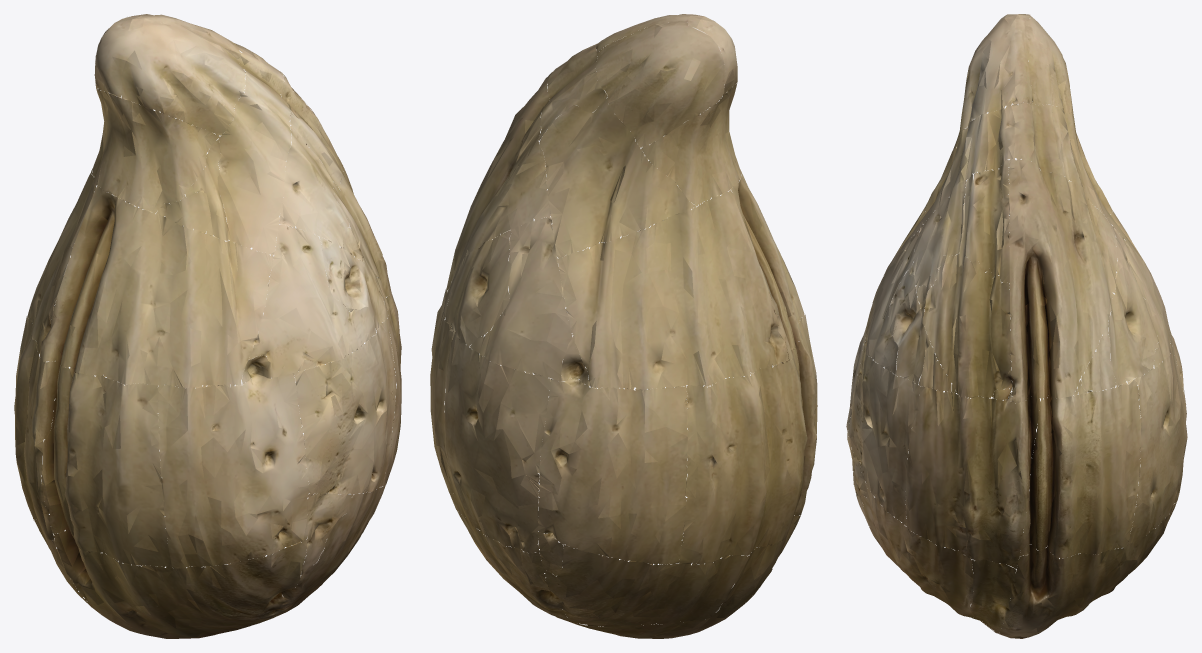
The model's file is witness-seed-slim.glb.
3 renders of one model, left to right at view 1: azimuth 30°, elevation 25°; view 2: azimuth 150°, elevation 25°; view 3: azimuth 270°, elevation 25°, orthographic. The views are drawn at different scales.
Parts seen in each view (by area): view 1: tripo_node_110b8f48-ea46-4eda-9a18-60381e43f62f; view 2: tripo_node_110b8f48-ea46-4eda-9a18-60381e43f62f; view 3: tripo_node_110b8f48-ea46-4eda-9a18-60381e43f62f.
Part boxes in pixels (bbox=[...]): tripo_node_110b8f48-ea46-4eda-9a18-60381e43f62f: bbox=[14, 14, 401, 638]; tripo_node_110b8f48-ea46-4eda-9a18-60381e43f62f: bbox=[430, 14, 817, 638]; tripo_node_110b8f48-ea46-4eda-9a18-60381e43f62f: bbox=[846, 14, 1187, 638].
Bounding box in the file's own units: 0.5941 × 1 × 0.539.
Materials: 1 (1 with a texture image).
